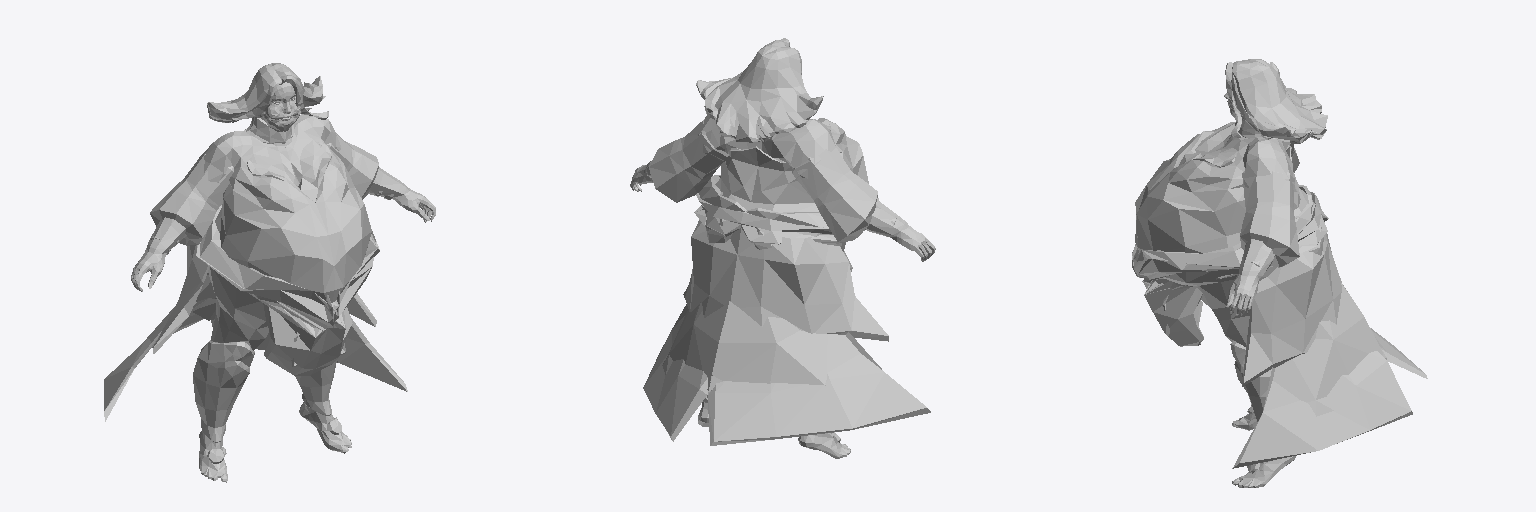
File: lina_statue_000011.obj
3 renders of one model, left to right at view 1: azimuth 30°, elevation 25°; view 2: azimuth 150°, elevation 25°; view 3: azimuth 270°, elevation 25°, orthographic.
Visible parts, largest first — view 1: lina_body.001_lina_body; view 2: lina_body.001_lina_body; view 3: lina_body.001_lina_body.
Part boxes in pixels (bbox=[...]): lina_body.001_lina_body: bbox=[104, 63, 435, 482]; lina_body.001_lina_body: bbox=[630, 38, 935, 458]; lina_body.001_lina_body: bbox=[1132, 59, 1427, 487].
Size of the model in its own units: 148 by 179 by 122.